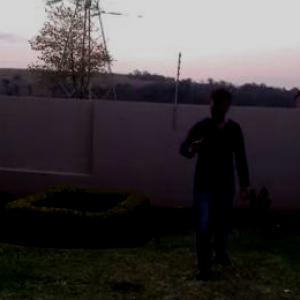takeoff-hand: (182, 124, 206, 160)
